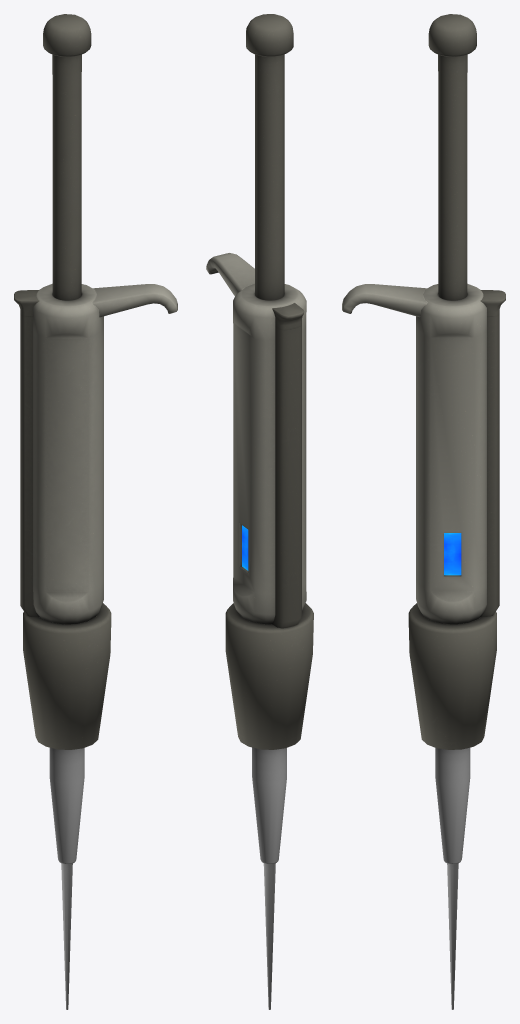
The model's file is Pipette.fbx.
The picture shows the model from 3 angles, left to right: view 1: azimuth 90°, elevation 25°; view 2: azimuth 210°, elevation 25°; view 3: azimuth 270°, elevation 25°; orthographic projection.
Visible parts, largest first — view 1: Pipette, P_Plunger; view 2: Pipette, P_Plunger; view 3: Pipette, P_Plunger.
Boxes of the visible parts, box(x1,y1,x2,y2) form: Pipette: box(14, 283, 177, 1009); P_Plunger: box(43, 14, 91, 300); Pipette: box(206, 253, 313, 1009); P_Plunger: box(246, 14, 293, 300); Pipette: box(342, 283, 505, 1009); P_Plunger: box(428, 14, 476, 300).
Bounding box in the file's own units: 3.28 × 40.31 × 6.05.
Materials: 1 (1 with a texture image).
